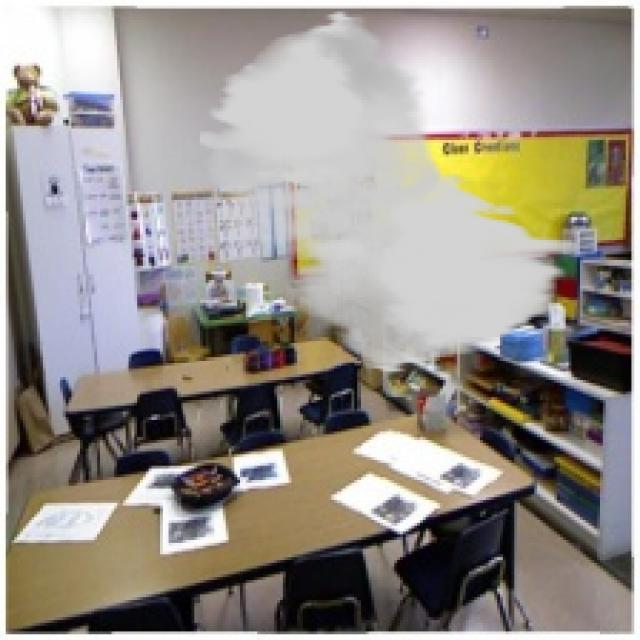Smoke: (197, 8, 577, 374)
